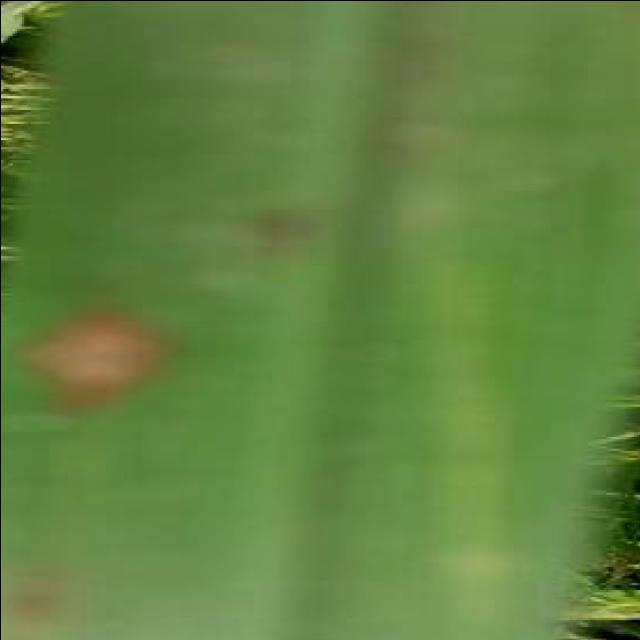Leaf_Blast: (0, 283, 193, 436)
